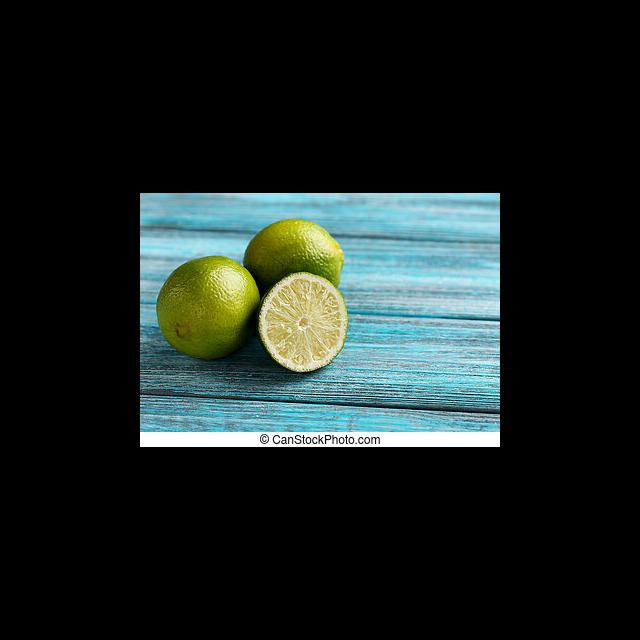lime: (153, 253, 266, 362), (237, 215, 351, 310)
